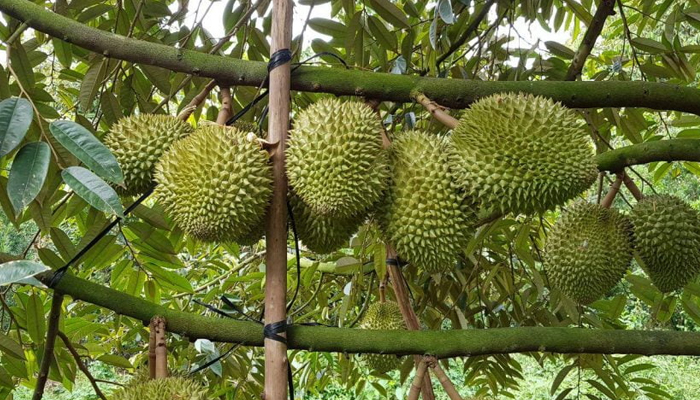sau_rieng: (82, 102, 279, 259), (440, 93, 606, 204), (291, 94, 392, 252), (624, 189, 700, 299)
